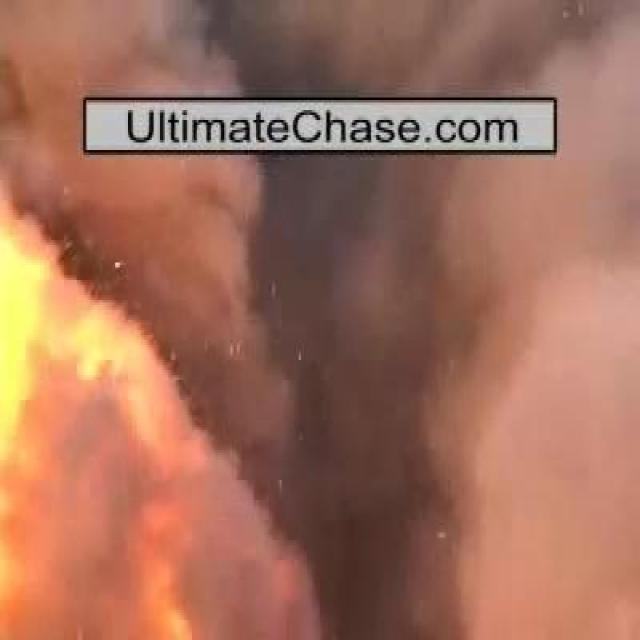Smoke: (76, 165, 580, 577)
